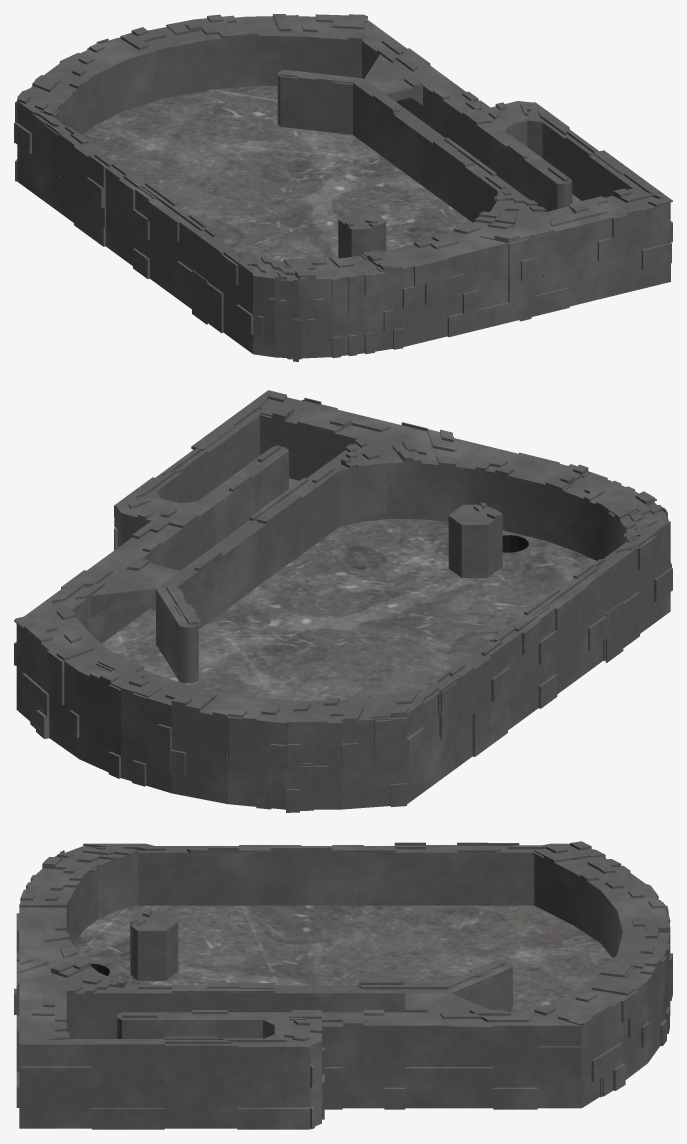
File: PlayfieldInverted.fbx
3 renders of one model, top to bottom at view 1: azimuth 30°, elevation 25°; view 2: azimuth 150°, elevation 25°; view 3: azimuth 270°, elevation 25°, orthographic. The views are drawn at different scales.
Parts seen in each view (by area): view 1: PlayfieldStructure, PlayfieldFloor, PlayfieldWalls, PlayfieldWallFlipper, PlayfieldTunnel; view 2: PlayfieldStructure, PlayfieldFloor, PlayfieldWalls, PlayfieldWallFlipper, PlayfieldTunnel; view 3: PlayfieldStructure, PlayfieldWalls, PlayfieldFloor, PlayfieldWallFlipper, PlayfieldTunnel.
Boxes of the visible parts, left/top/right/bottom form: PlayfieldStructure: left=14, top=14, right=672, bottom=361; PlayfieldFloor: left=82, top=85, right=581, bottom=260; PlayfieldWalls: left=53, top=35, right=632, bottom=222; PlayfieldWallFlipper: left=338, top=211, right=386, bottom=258; PlayfieldTunnel: left=364, top=54, right=422, bottom=105; PlayfieldStructure: left=14, top=390, right=672, bottom=812; PlayfieldFloor: left=102, top=478, right=596, bottom=700; PlayfieldWalls: left=72, top=416, right=626, bottom=683; PlayfieldWallFlipper: left=448, top=502, right=502, bottom=577; PlayfieldTunnel: left=90, top=558, right=179, bottom=618; PlayfieldStructure: left=14, top=841, right=672, bottom=1129; PlayfieldWalls: left=66, top=852, right=622, bottom=1038; PlayfieldFloor: left=73, top=905, right=612, bottom=1012; PlayfieldWallFlipper: left=130, top=910, right=178, bottom=980; PlayfieldTunnel: left=405, top=993, right=489, bottom=1012.
Size of the model in its own units: 3645 by 4999 by 753.
